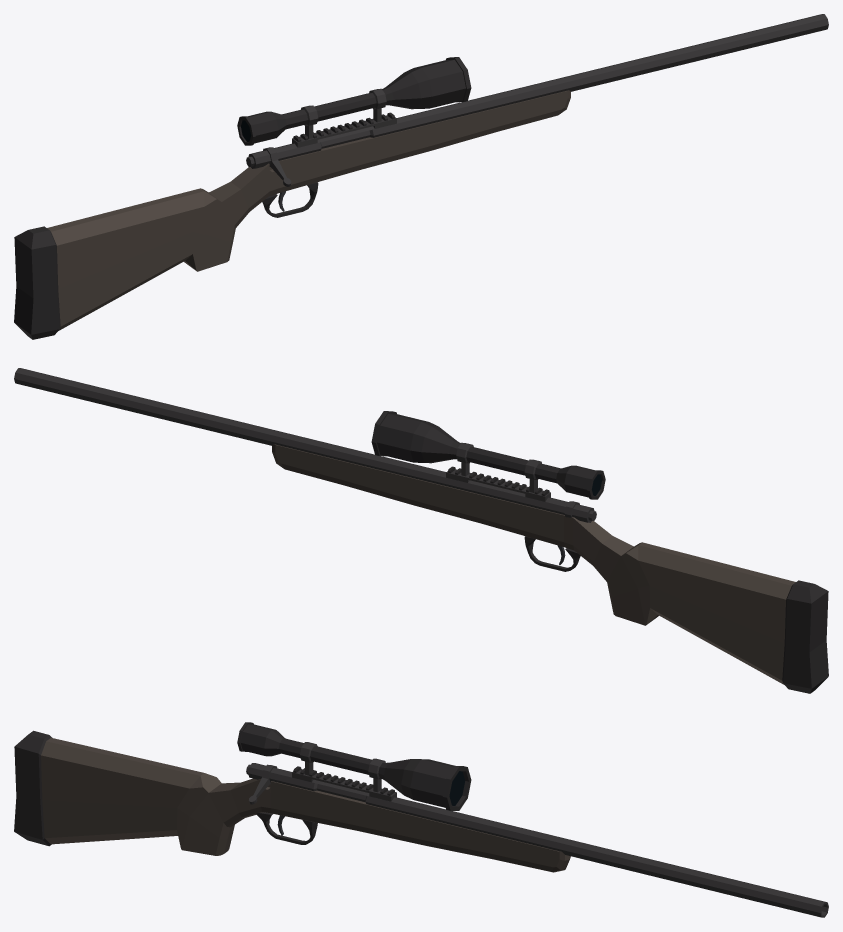
File: quaternius-ultimate-gun-pack-july-sniperrifle-6.glb
3 views of the same model, one above another, from view 1: azimuth 30°, elevation 25°; view 2: azimuth 150°, elevation 25°; view 3: azimuth 330°, elevation 25° (orthographic).
Visible parts, largest first — view 1: SniperRifle_6; view 2: SniperRifle_6; view 3: SniperRifle_6.
Part boxes in pixels (x1,y1,x2,y2): SniperRifle_6: (14, 14, 828, 339); SniperRifle_6: (14, 368, 828, 693); SniperRifle_6: (14, 722, 828, 917).
Size of the model in its own units: 7.21 by 1.52 by 0.4935.
1 material, 1 textured.
